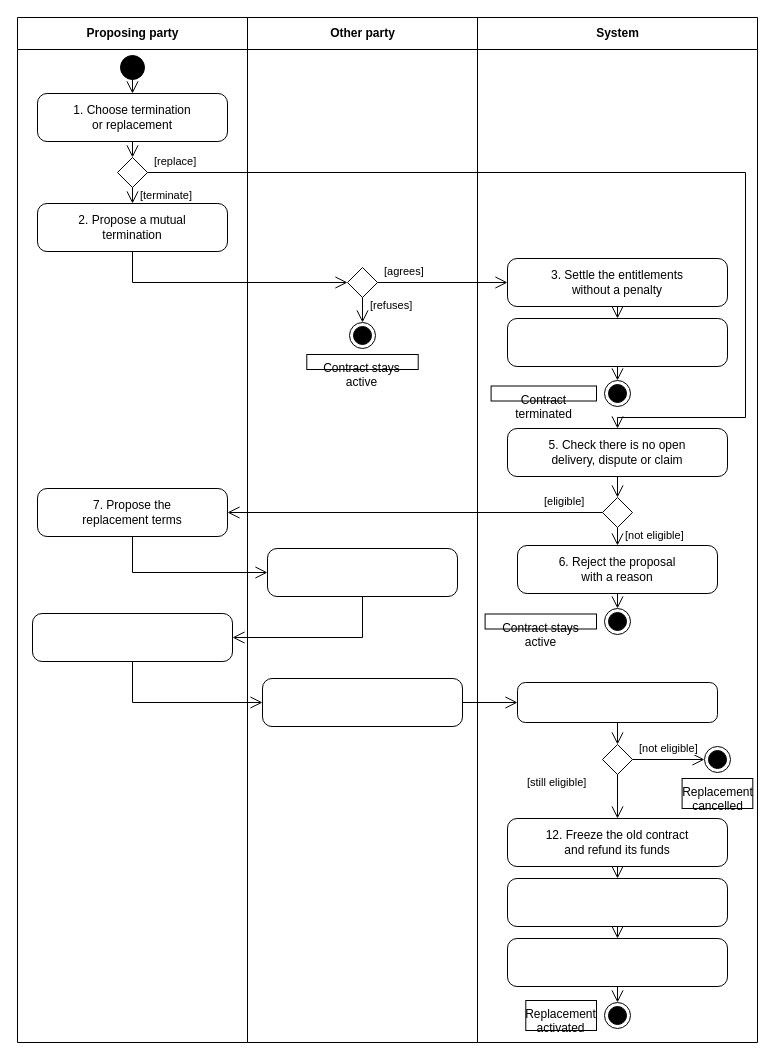
This 775x1060 diagram has some shape labels left out. The shapes that lost their labels are listed below. From the top down, each one's centre as x and y in pixels, then its label:
At [617,342]: "4. Refund the remaining locked funds".
At [362,572]: "8. Review and agree on the terms".
At [132,637]: "9. Sign the replacement with an e-mail OTP".
At [362,702]: "10. Sign the replacement with an e-mail OTP".
At [617,702]: "11. Re-check eligibility".
At [617,902]: "13. Mark the old contract SUPERSEDED".
At [617,962]: "14. Activate the replacement as in BF-03".
